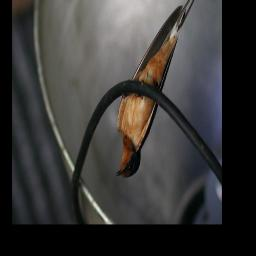Swallow: (112, 0, 201, 183)
